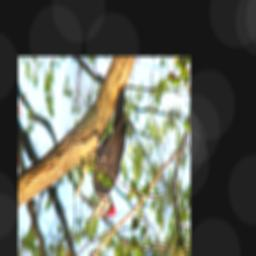Woodpecker: (83, 81, 130, 226)
